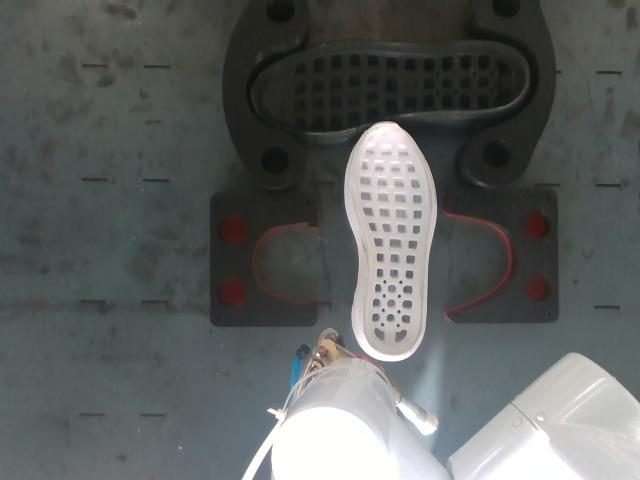shoes: (251, 40, 526, 131), (350, 123, 433, 355)
